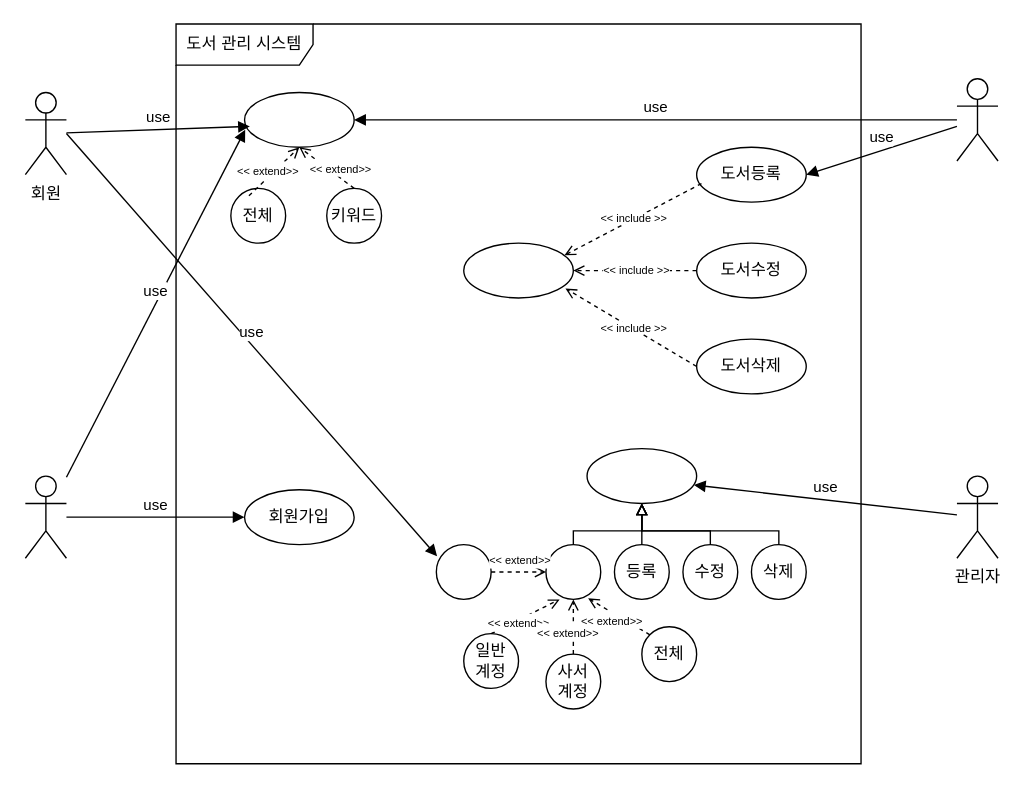
Image size: 1023x788. Some labels were removed from this diagram. The box of each missing label's shape, as (x1, y1, x2, y2) in pixels:
나의 정보: (435, 543, 491, 599)
도서조회: (243, 91, 354, 147)
로그인: (462, 242, 573, 298)
비회원: (24, 475, 66, 558)
사서: (956, 77, 998, 161)
조회: (545, 543, 601, 599)
회원관리: (586, 447, 697, 503)
